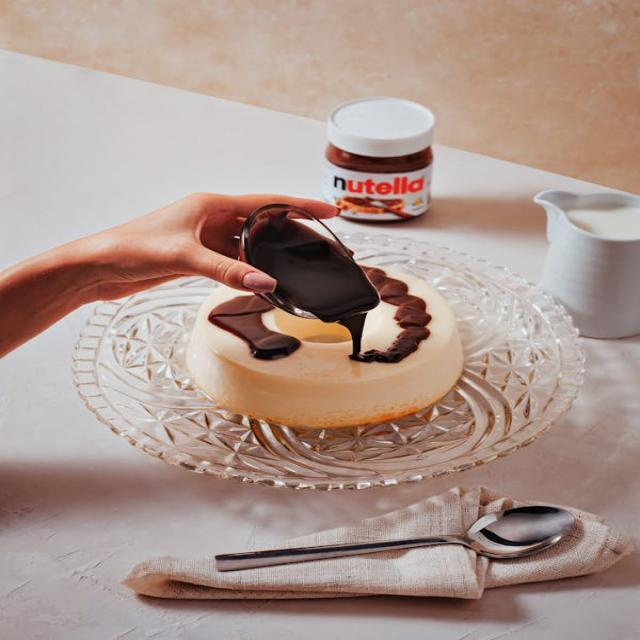spoon: (215, 503, 566, 574)
